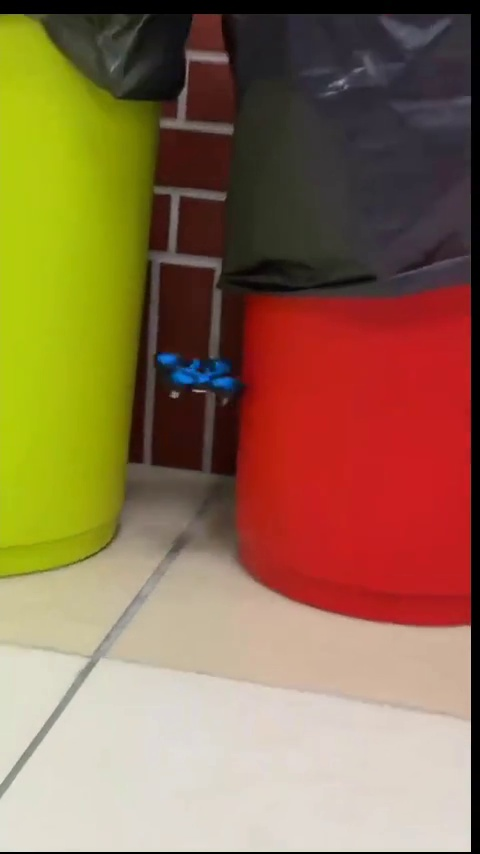drone: (157, 352, 241, 407)
